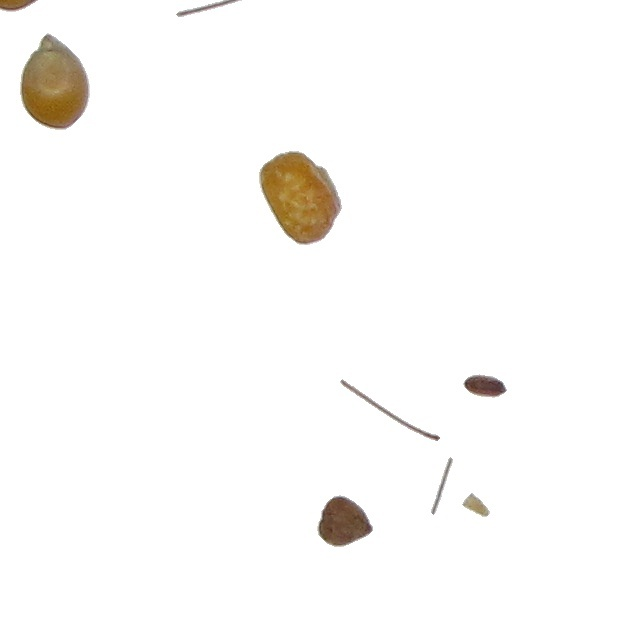buckwheat: (316, 494, 374, 548), (462, 373, 508, 399)
dill: (339, 378, 441, 442), (430, 456, 454, 516), (461, 492, 491, 518)
mais: (258, 150, 343, 246), (19, 32, 91, 131)
